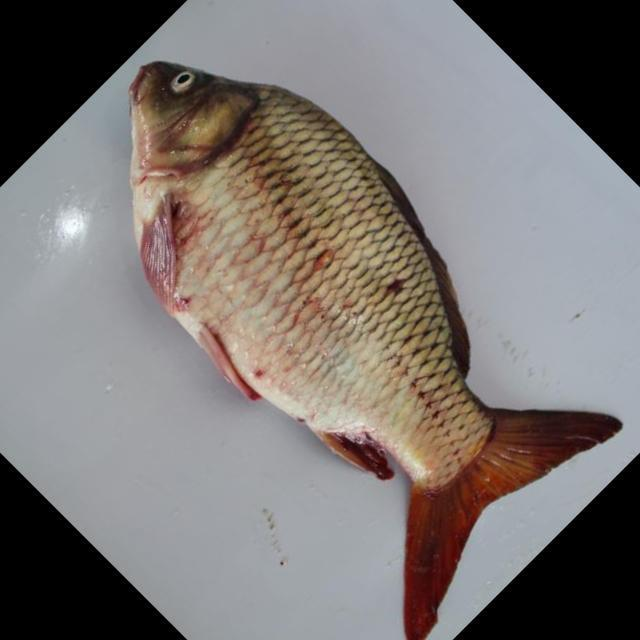CommonCarp: (126, 56, 630, 635)
